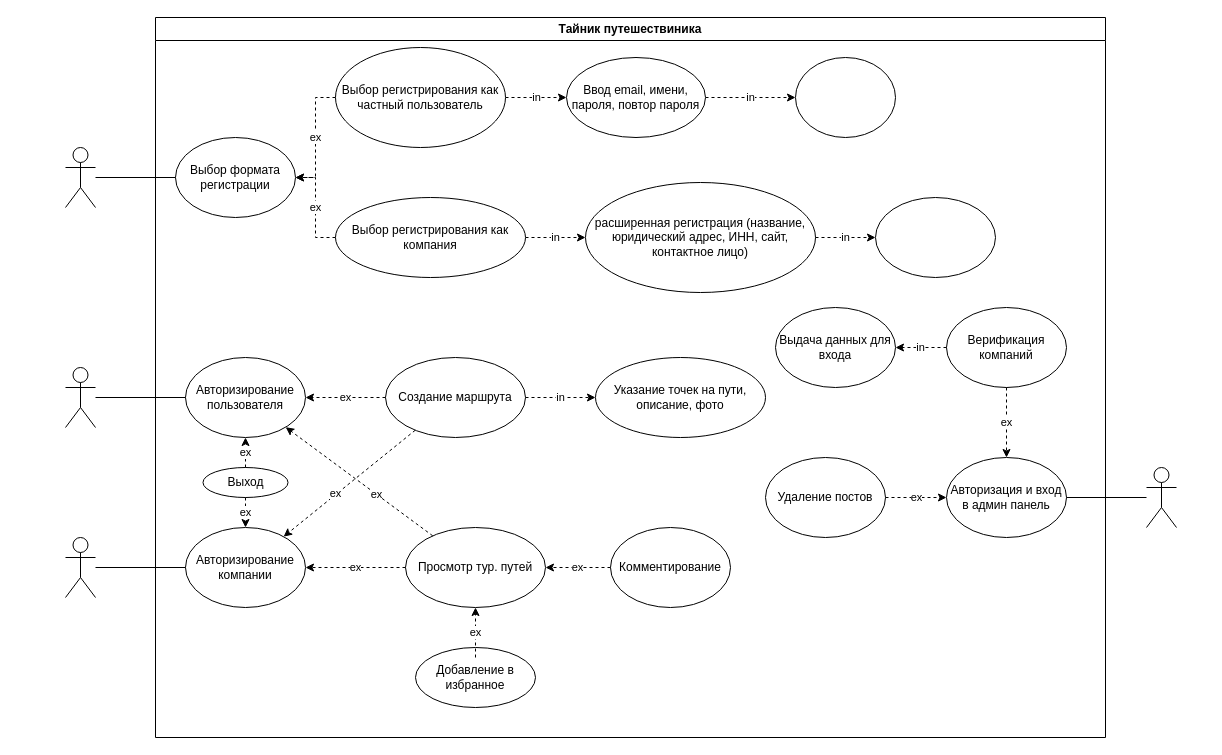
Image size: 1222x755. Some labels were removed from this diagram. Each missing label, with the centre of its shape:
"Авторизация" goes at point (845, 97).
"Администратор" goes at point (1161, 497).
"Гость" goes at point (80, 177).
"Компания" goes at point (80, 567).
"Ожидание прохождения верификации" goes at point (935, 237).
"Частный пользователь" goes at point (80, 397).
